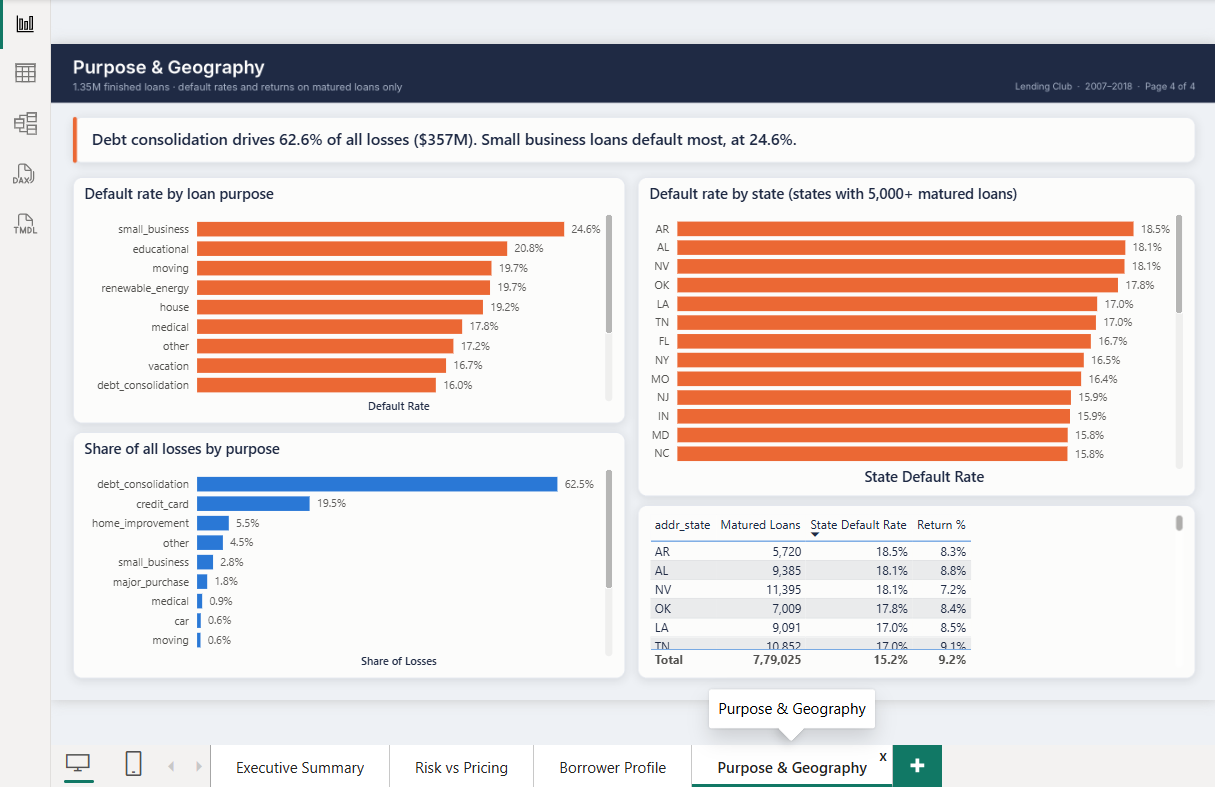

The page's visual inventory and layout, read from the dashboard file:
{"tool":"powerbi","page":{"name":"Purpose & Geography","canvas":[1280,720],"ordinal":3},"visuals":[{"type":"textbox","box":[40,88,1205,36],"z":0},{"type":"clusteredBarChart","title":"Default rate by loan purpose","fields":{"Category":["loans.purpose"],"Y":["loans.Default Rate"]},"box":[32,152,590,258],"z":1000},{"type":"clusteredBarChart","title":"Share of all losses by purpose","fields":{"Category":["loans.purpose"],"Y":["loans.Share of Losses"]},"box":[32,432,590,258],"z":2000},{"type":"clusteredBarChart","title":"Default rate by state (states with 5,000+ matured loans)","fields":{"Category":["loans.addr_state"],"Y":["loans.State Default Rate"]},"box":[652,152,596,338],"z":3000},{"type":"tableEx","fields":{"Values":["loans.addr_state","loans.Matured Loans","loans.State Default Rate","loans.Return %"]},"box":[652,512,596,178],"z":4000}]}

Visuals, with their boxes on the page's 1280x720 design canvas (x1, y1, x2, y2). These are canvas units, not pixel positions in the 1215x787 screenshot, which may show the page scaled, cropped or inside an application window:
textbox: crop(40, 88, 1245, 124)
"Default rate by loan purpose" clusteredBarChart: crop(32, 152, 622, 410)
"Share of all losses by purpose" clusteredBarChart: crop(32, 432, 622, 690)
"Default rate by state (states with 5,000+ matured loans)" clusteredBarChart: crop(652, 152, 1248, 490)
tableEx - loans.addr_state x loans.Matured Loans: crop(652, 512, 1248, 690)
